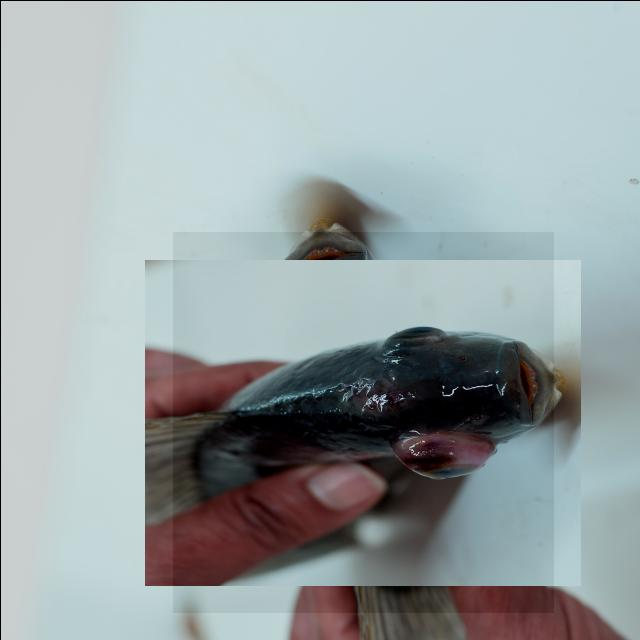streptococcus Disease: (172, 231, 553, 612)
